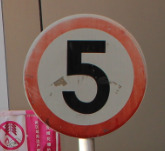speed_limit_5: (22, 13, 147, 138)
